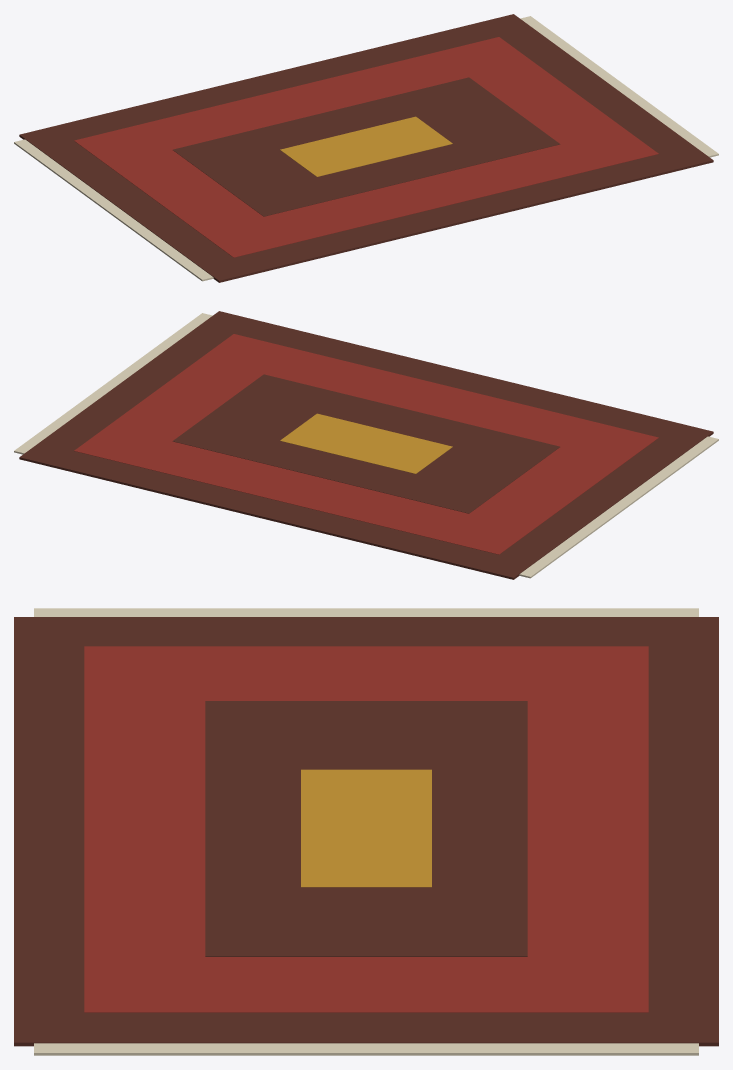
File: lobby_rug.glb
3 views of the same model, one above another, from view 1: azimuth 30°, elevation 25°; view 2: azimuth 150°, elevation 25°; view 3: azimuth 270°, elevation 25° (orthographic). The views are drawn at different scales.
Visible parts, largest first — view 1: lobby_rug; view 2: lobby_rug; view 3: lobby_rug.
Part boxes in pixels (left/top/right/bottom): lobby_rug: left=14, top=14, right=718, bottom=282; lobby_rug: left=14, top=311, right=718, bottom=579; lobby_rug: left=14, top=608, right=718, bottom=1055.
Bounding box in the file's own units: 2.09 × 0.011 × 1.4.
2 materials, 2 textured.
